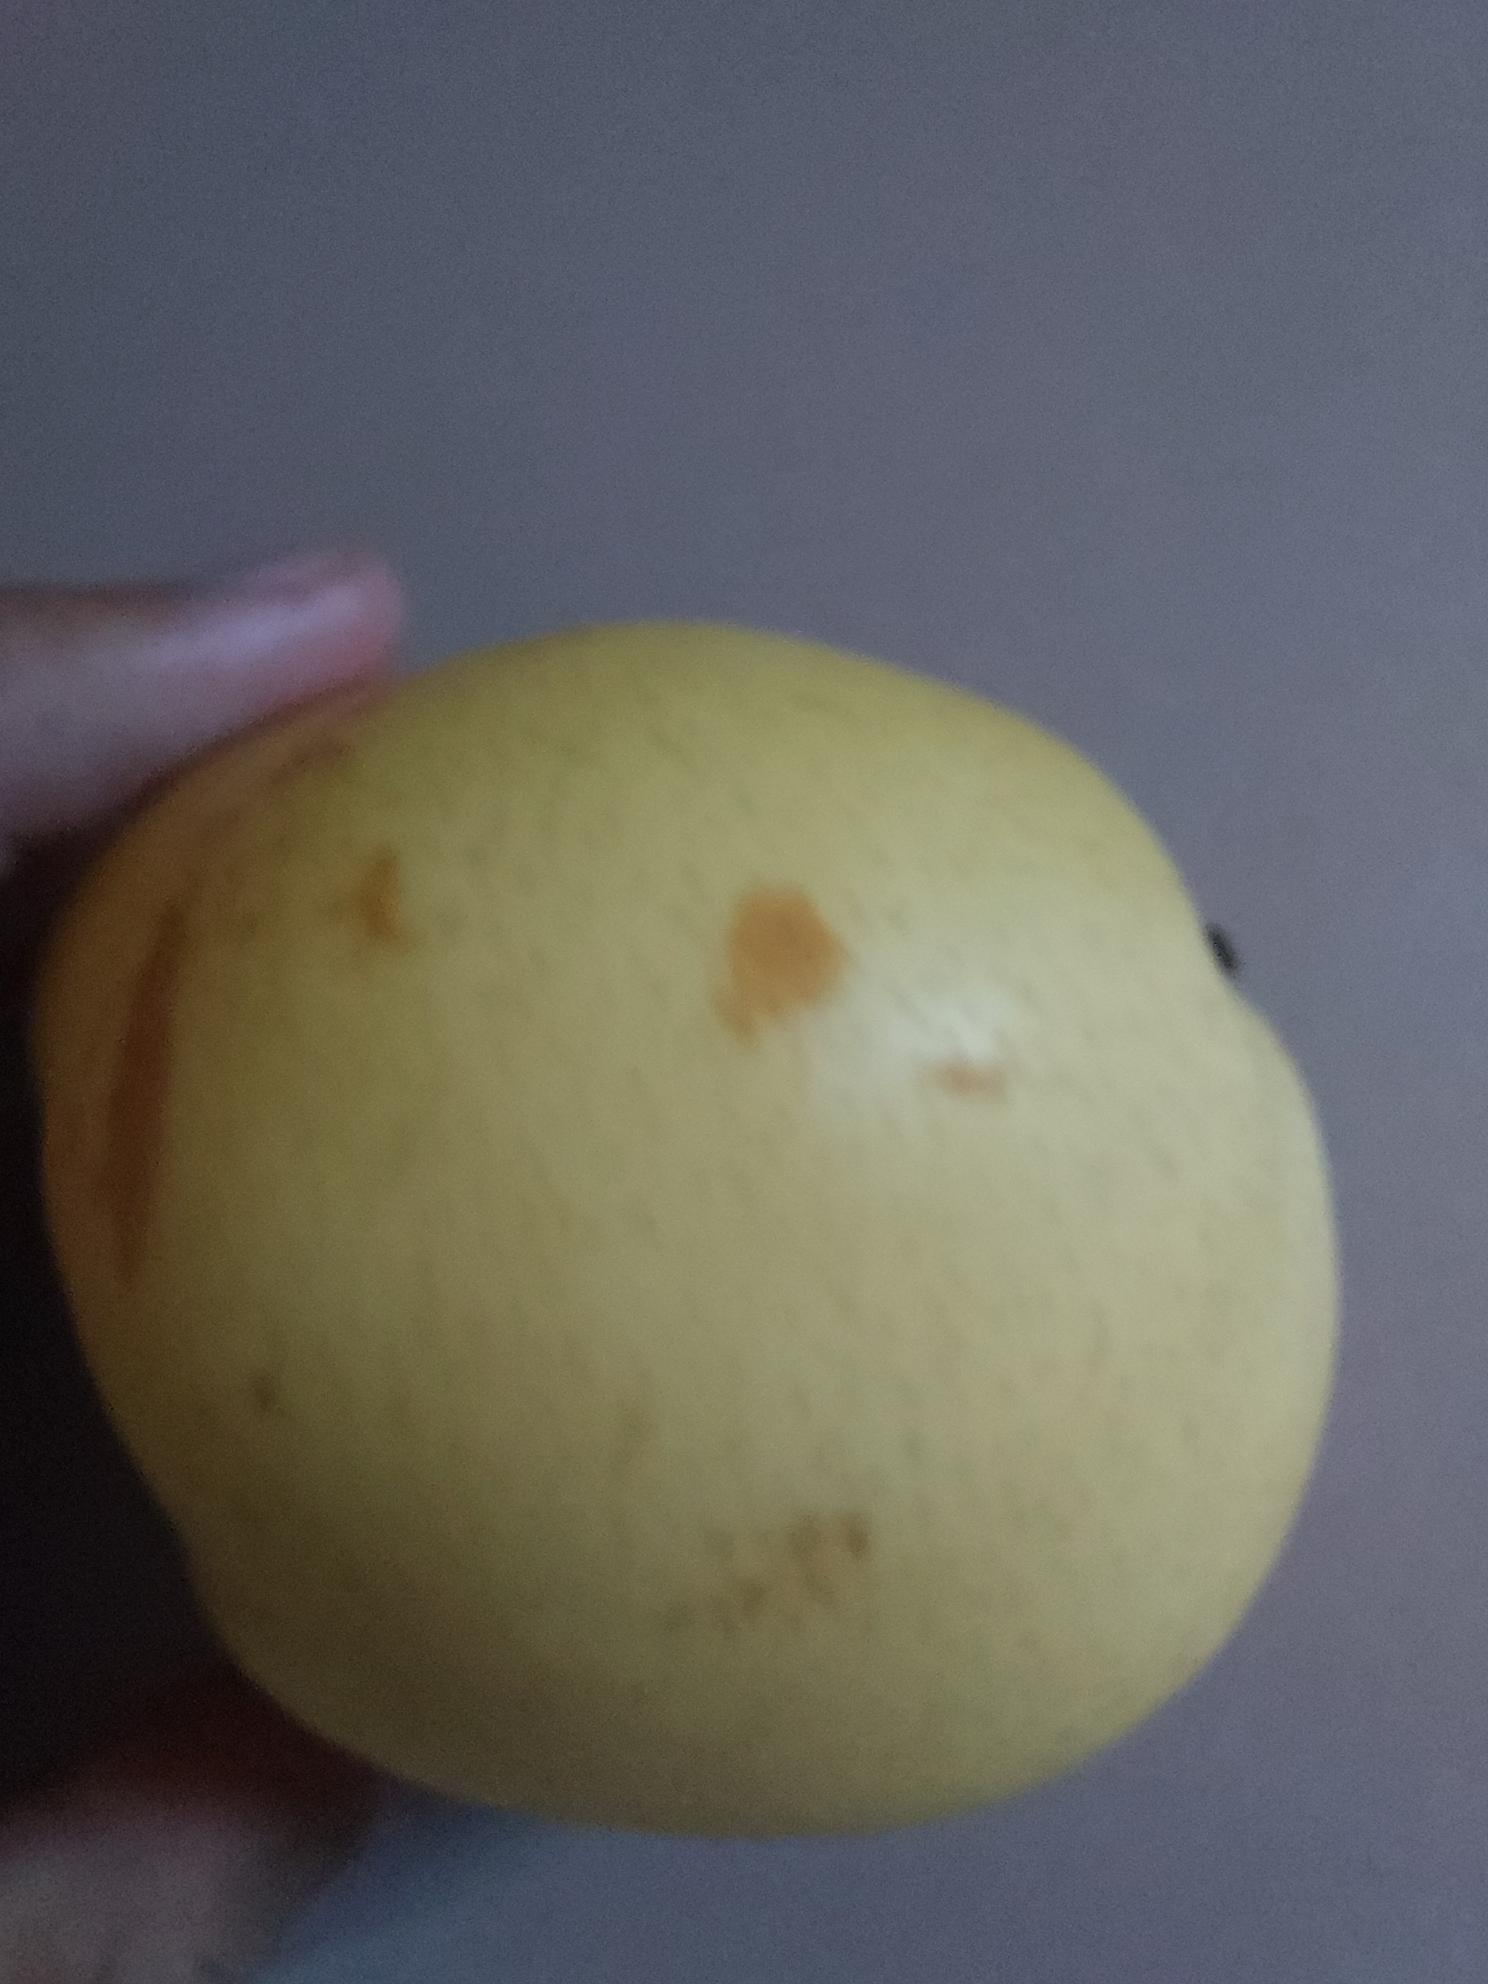Good Pear: (38, 623, 1356, 1865)
